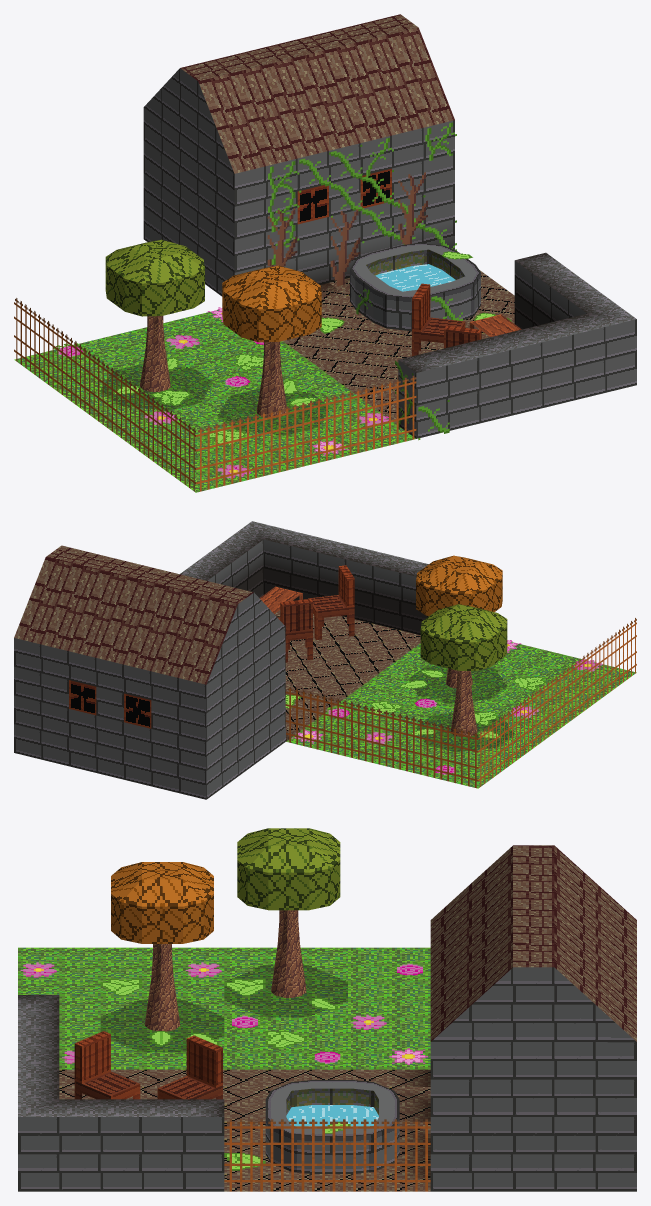
File: AbandonedHome_1B.gltf
3 renders of one model, top to bottom at view 1: azimuth 30°, elevation 25°; view 2: azimuth 150°, elevation 25°; view 3: azimuth 270°, elevation 25°, orthographic. The views are drawn at different scales.
Bounding box in the file's own units: 14 × 6 × 15.1.
4 materials, 4 textured.
